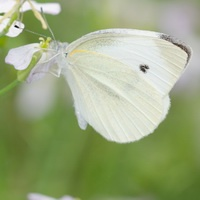insect: (5, 29, 191, 142)
